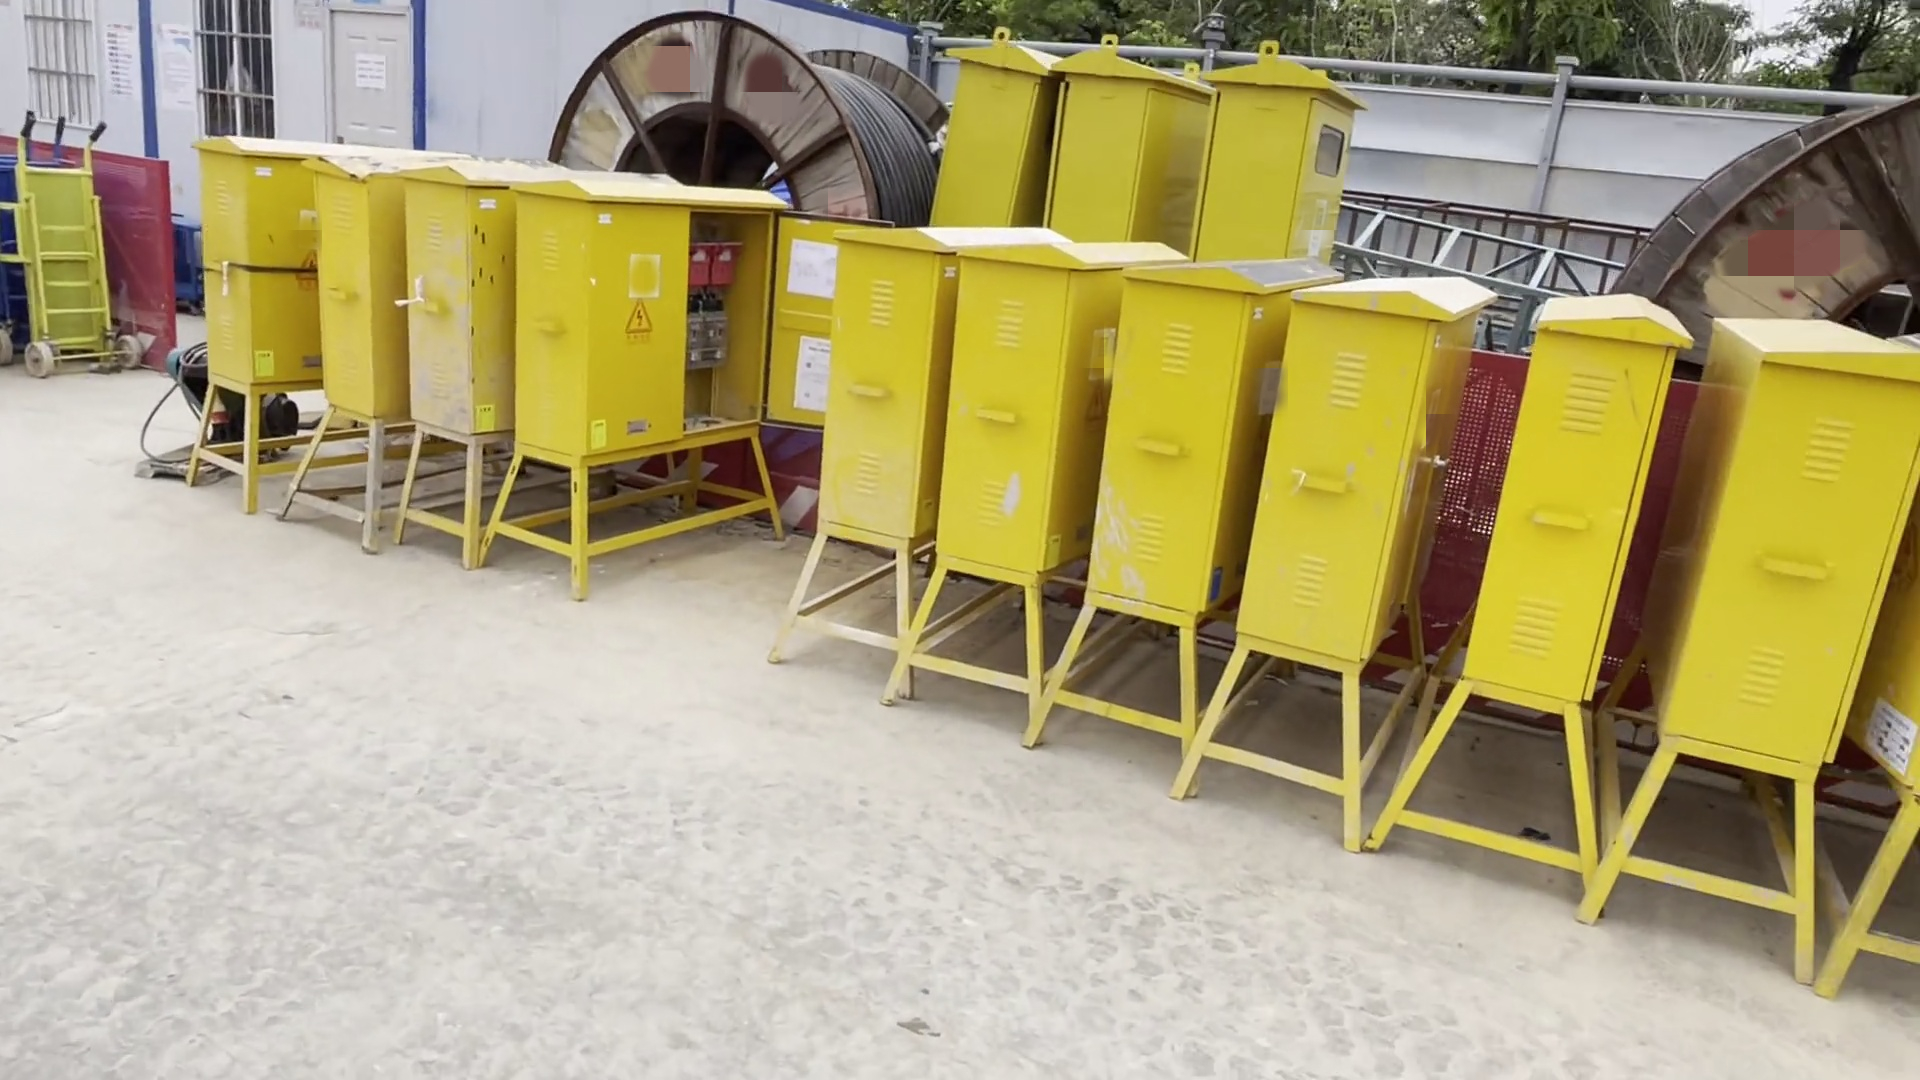ebox: (1374, 291, 1701, 866), (1568, 307, 1837, 945), (1182, 287, 1490, 800), (1030, 261, 1327, 750), (881, 248, 1182, 711), (504, 164, 794, 597), (771, 227, 1054, 671), (175, 108, 342, 526), (282, 133, 435, 522), (393, 152, 516, 571), (1201, 51, 1393, 262), (924, 22, 1076, 237), (1055, 50, 1207, 235)
